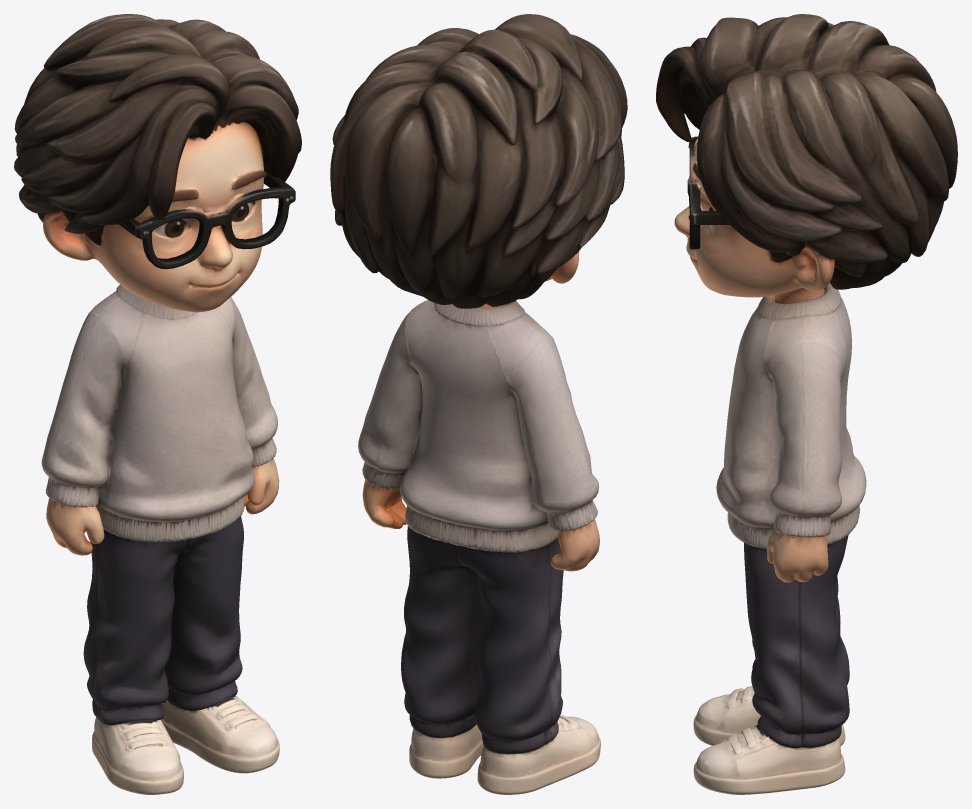
Rendered from avatar_daily-desktop.glb.
3 renders of one model, left to right at view 1: azimuth 30°, elevation 25°; view 2: azimuth 150°, elevation 25°; view 3: azimuth 270°, elevation 25°, orthographic.
Visible parts, largest first — view 1: tripo_node_6075cef2-7189-4dfb-badb-74becea681ec; view 2: tripo_node_6075cef2-7189-4dfb-badb-74becea681ec; view 3: tripo_node_6075cef2-7189-4dfb-badb-74becea681ec.
Part boxes in pixels (bbox=[...]): tripo_node_6075cef2-7189-4dfb-badb-74becea681ec: bbox=[14, 14, 301, 794]; tripo_node_6075cef2-7189-4dfb-badb-74becea681ec: bbox=[330, 14, 627, 794]; tripo_node_6075cef2-7189-4dfb-badb-74becea681ec: bbox=[656, 14, 957, 794].
Bounding box in the file's own units: 0.3562 × 0.9798 × 0.3664.
Materials: 1 (1 with a texture image).
